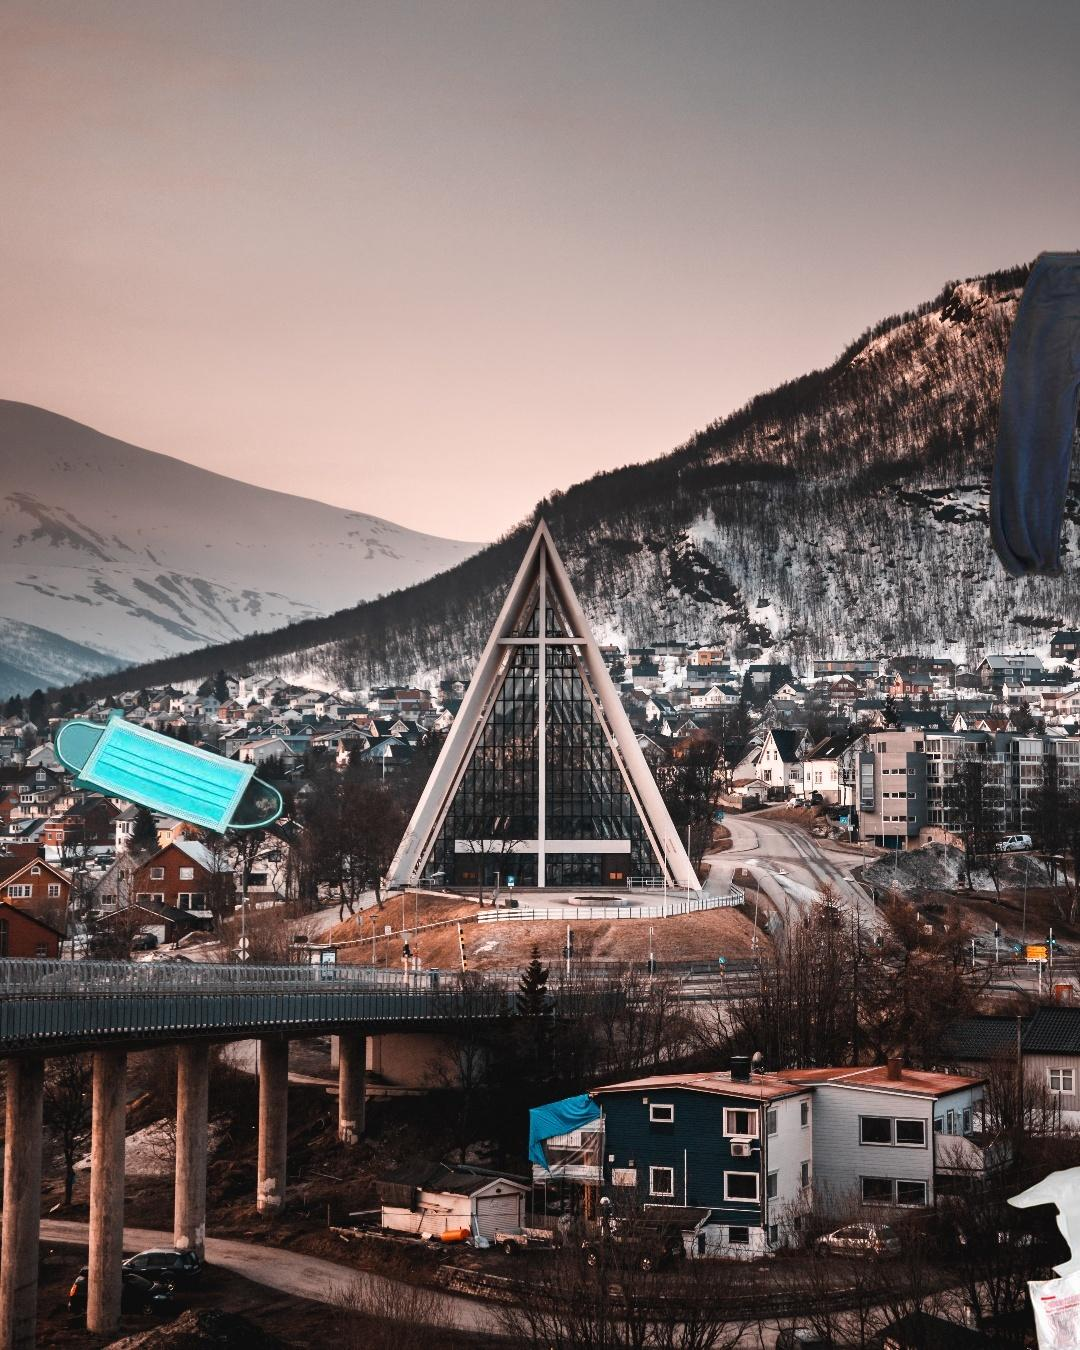clothes: (986, 246, 1080, 601)
plastic-bag: (1003, 1151, 1080, 1350)
trash: (51, 706, 287, 847)
